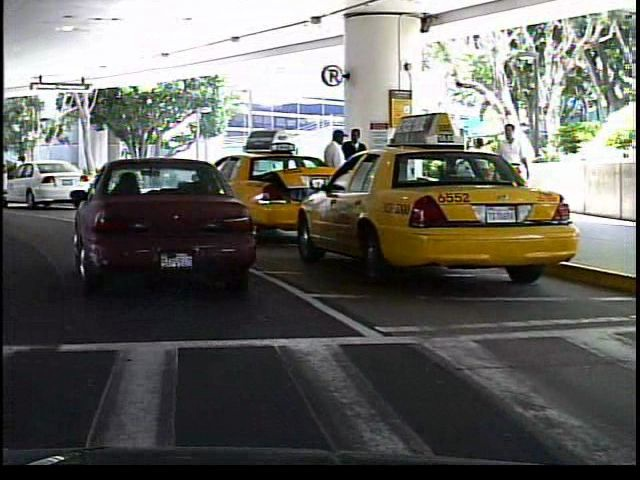person: (494, 119, 535, 227), (319, 126, 349, 223), (342, 126, 369, 217), (465, 131, 491, 206), (10, 150, 34, 194)
